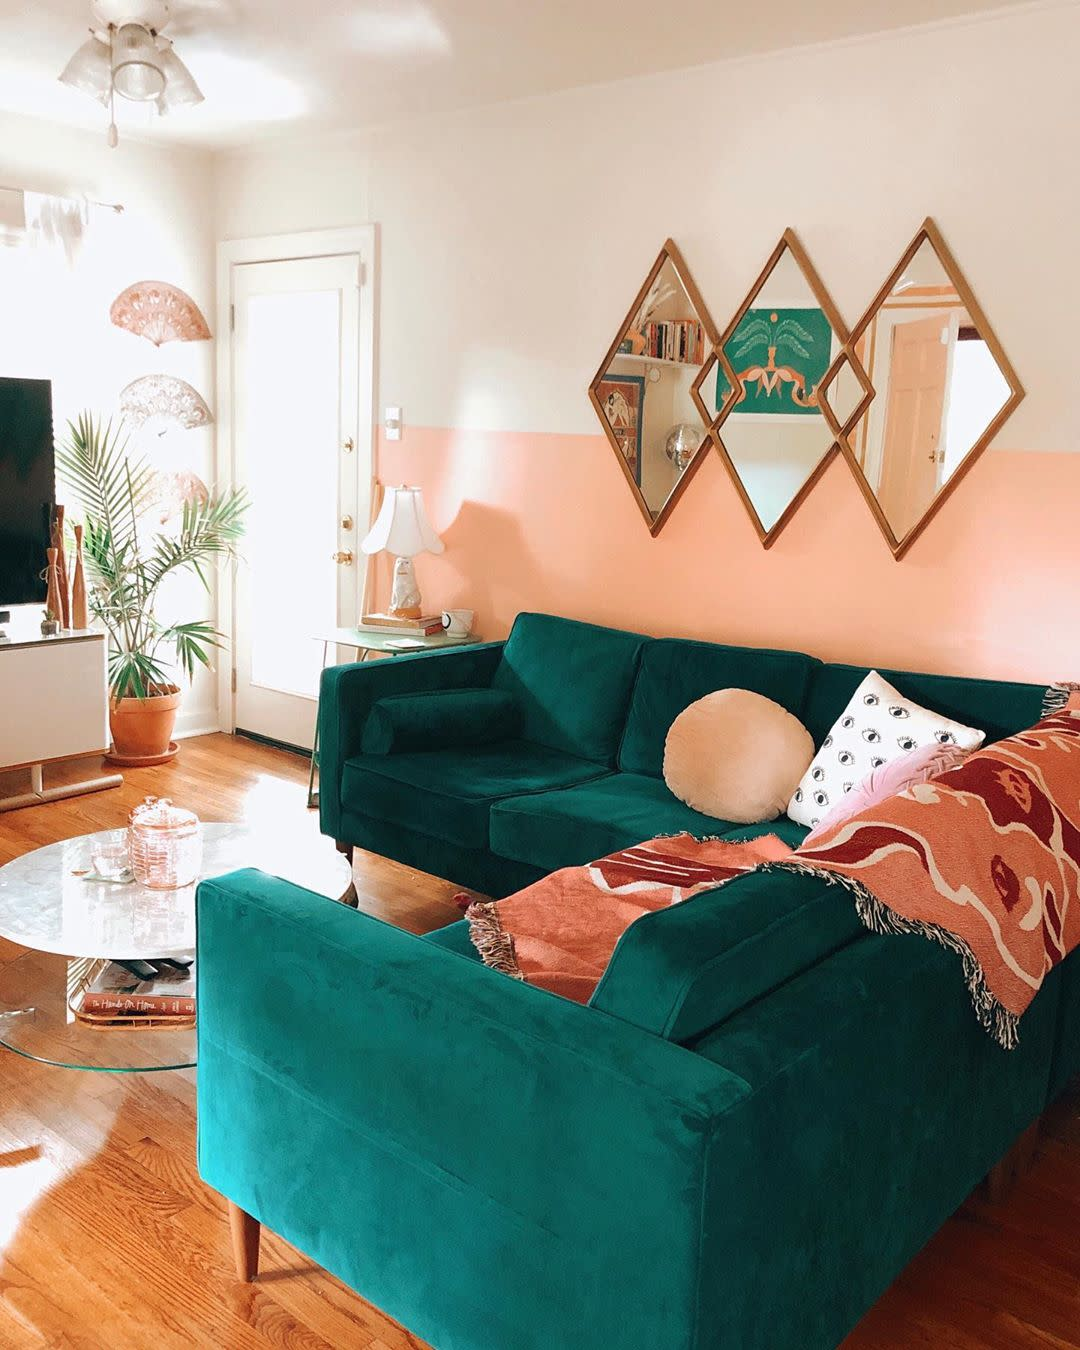hijau: (197, 873, 890, 1325), (320, 614, 758, 865)
putih: (365, 480, 440, 603)
